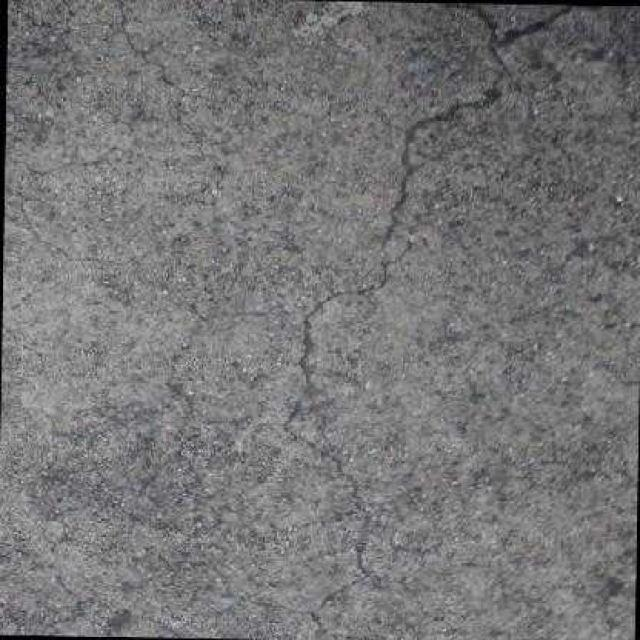D00: (277, 4, 580, 640)
